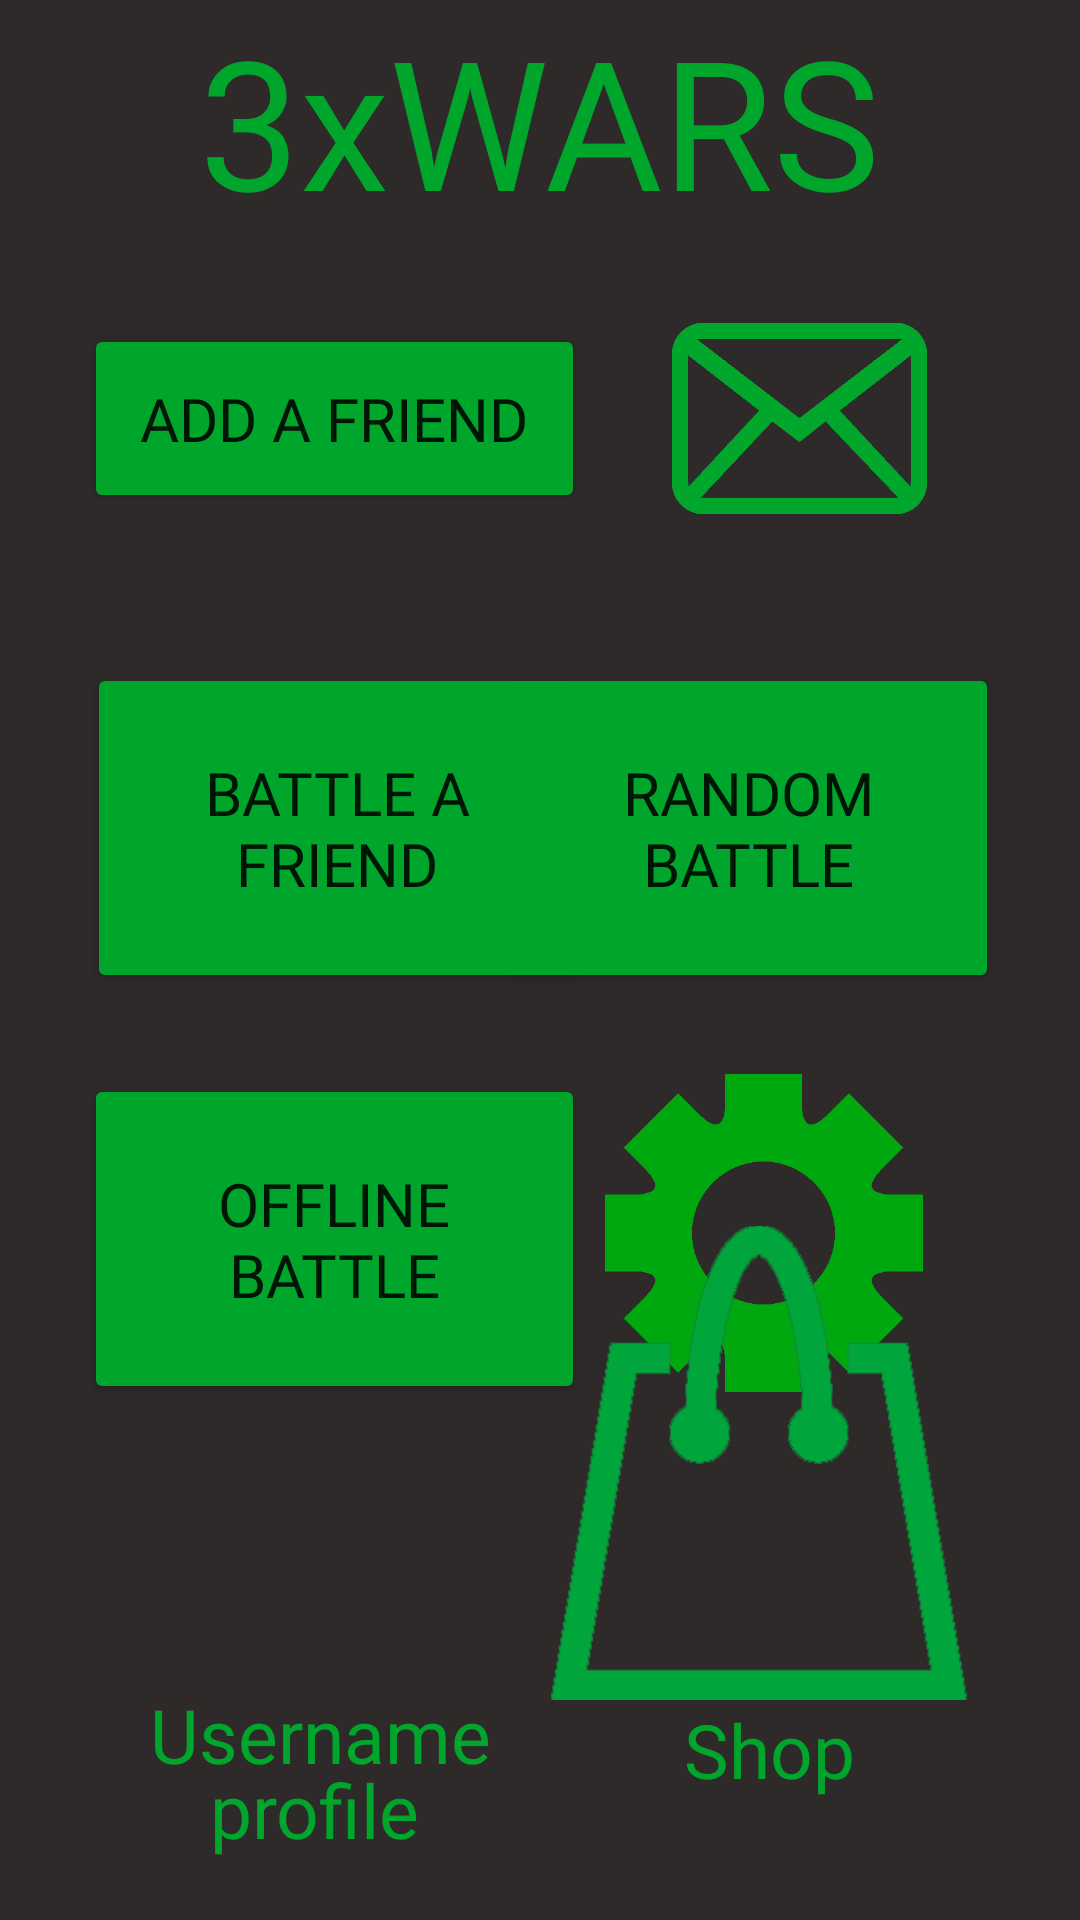

Point at icon controls on the screen. Image size 1080w x 1920h, points as (x=x, y=y).
sobre: (x=799, y=418)
